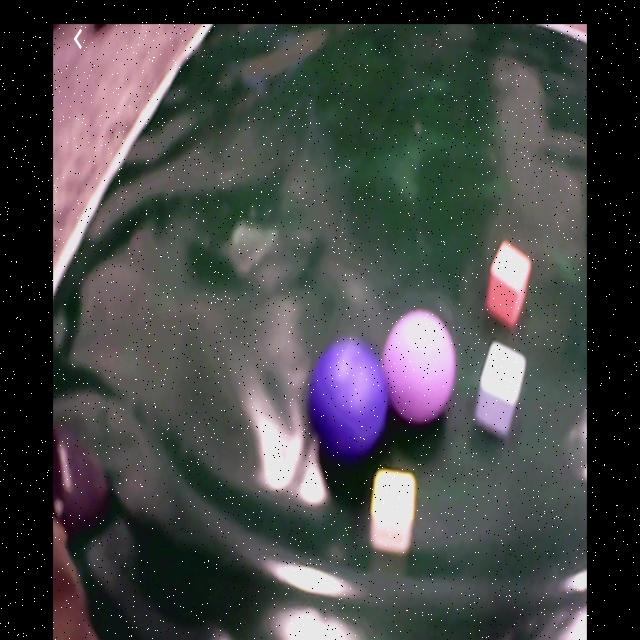ball: (311, 335, 384, 457), (384, 311, 452, 421)
